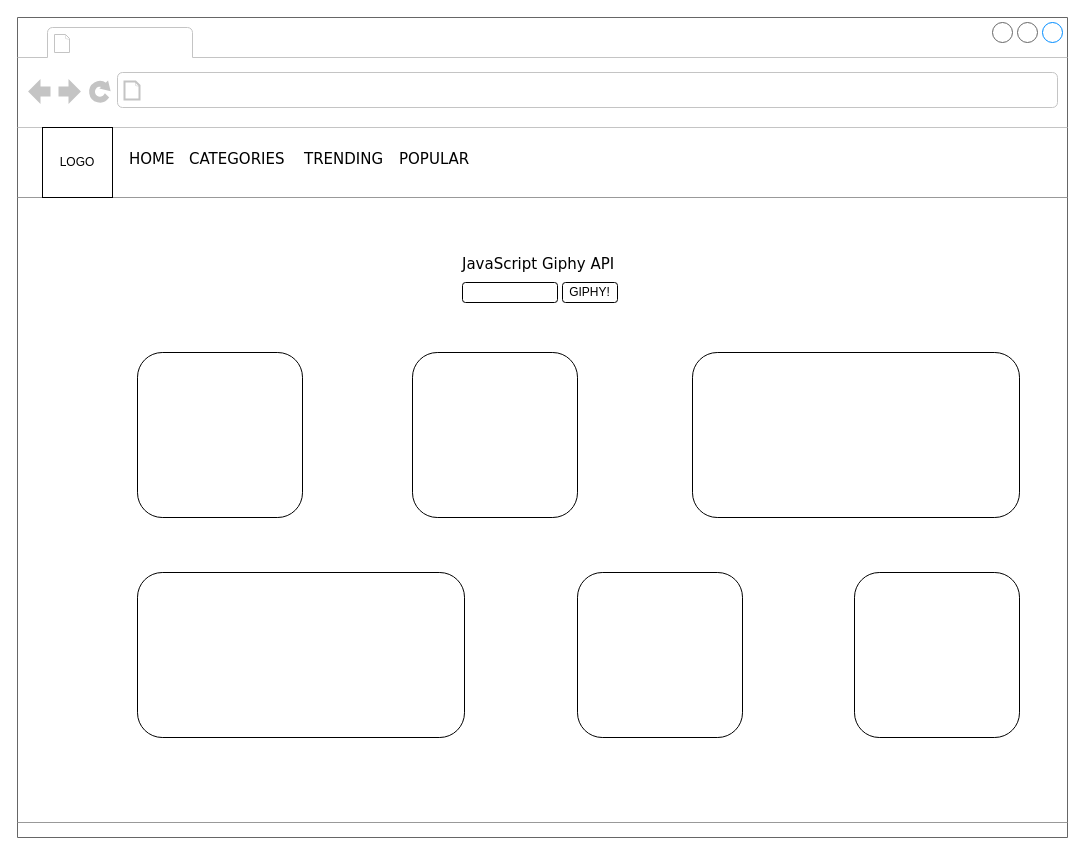
Image size: 1085x855. Some labels were removed from this diagram. Here are the shapes that lost their labels. From the top down, the centre of each, then its label:
At [132,42]: "DESKTOP VIEW".
At [272,90]: "https://www.javascript-giphy-api.com".
